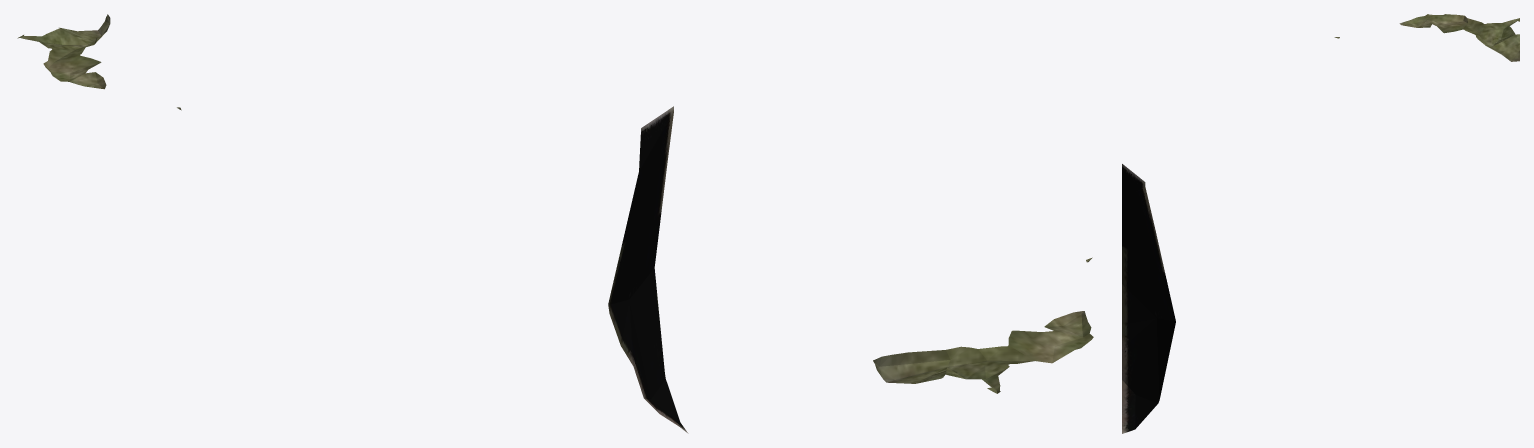
3 views of the same model, side by side, from view 1: azimuth 30°, elevation 25°; view 2: azimuth 150°, elevation 25°; view 3: azimuth 270°, elevation 25° (orthographic). The views are drawn at different scales.
Bounding box in the file's own units: 11.8 × 8.24 × 11.8.
1 material, 1 textured.
